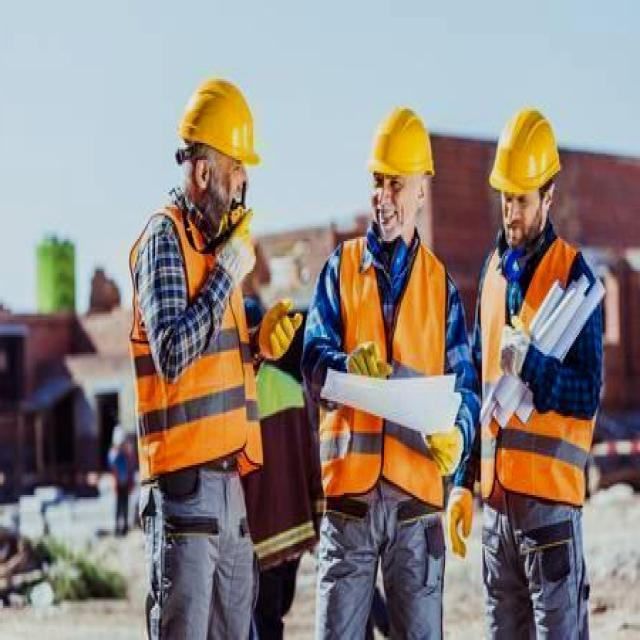face_nomask: (361, 168, 435, 250), (192, 153, 253, 204), (502, 179, 545, 250)
hand_glove: (203, 205, 269, 296), (253, 286, 300, 377), (417, 412, 469, 484), (338, 333, 387, 401), (437, 480, 475, 557), (498, 312, 535, 386)
head_helmet: (174, 73, 263, 162), (482, 105, 568, 192), (368, 109, 441, 173)
person: (131, 68, 279, 630), (312, 100, 456, 636), (478, 98, 599, 629)
vest: (306, 237, 455, 495), (118, 216, 263, 465), (471, 228, 592, 489)
